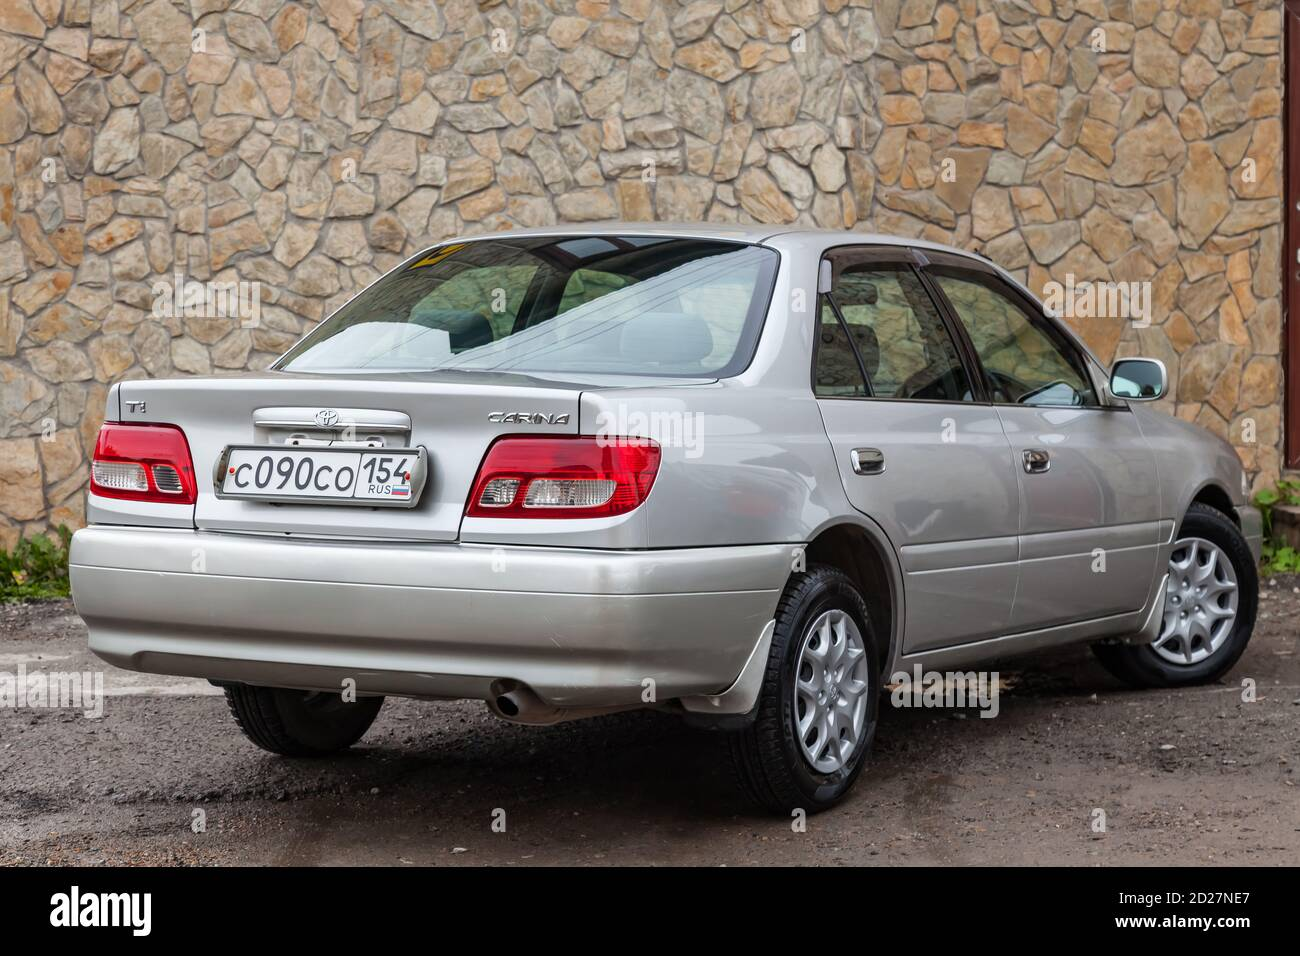car: (57, 215, 1264, 822)
